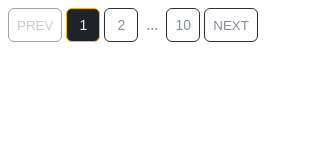
Pagination › switches page by clicking page number
The width and height of the screenshot is (320, 160).
Expected: the button with aria-label "Previous page" is disabled, x1=8 y1=8 x2=62 y2=42
Step 1. Click the button with aria-label "Next page" → (231, 25), box x1=204 y1=8 x2=258 y2=42
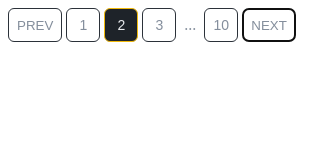
Expected: the button with aria-label "Previous page" is enabled, x1=8 y1=8 x2=62 y2=42
